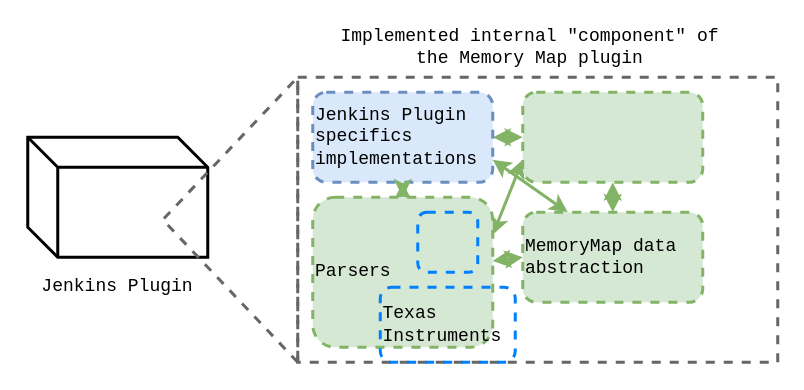
Some shapes in this 804 by 390 pixel diagram are drawn without their labels. Each missing label, with the centre of its shape:
"gcc" goes at point (447, 241).
"MemoryMap graphing and results handling" goes at point (612, 136).
